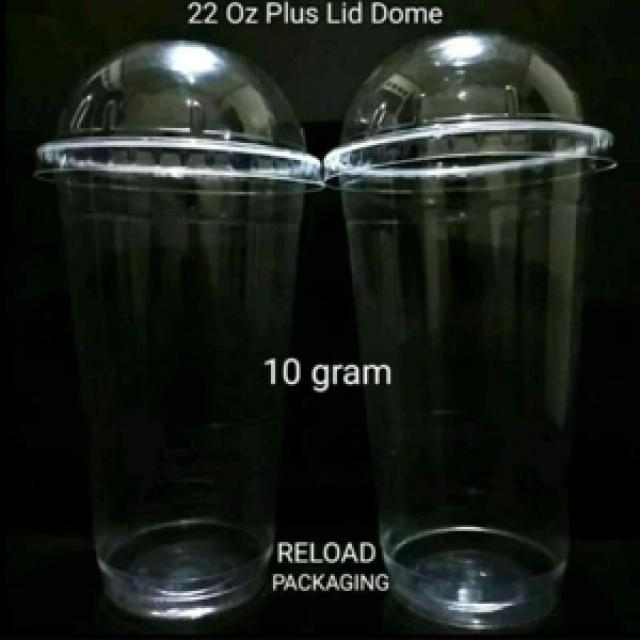plastic cup: (320, 30, 619, 633), (28, 34, 326, 627)
